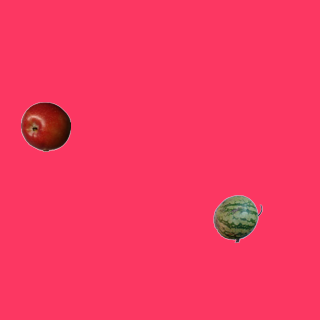Apple Braeburn: (20, 101, 70, 151)
Watermelon: (212, 193, 262, 243)
